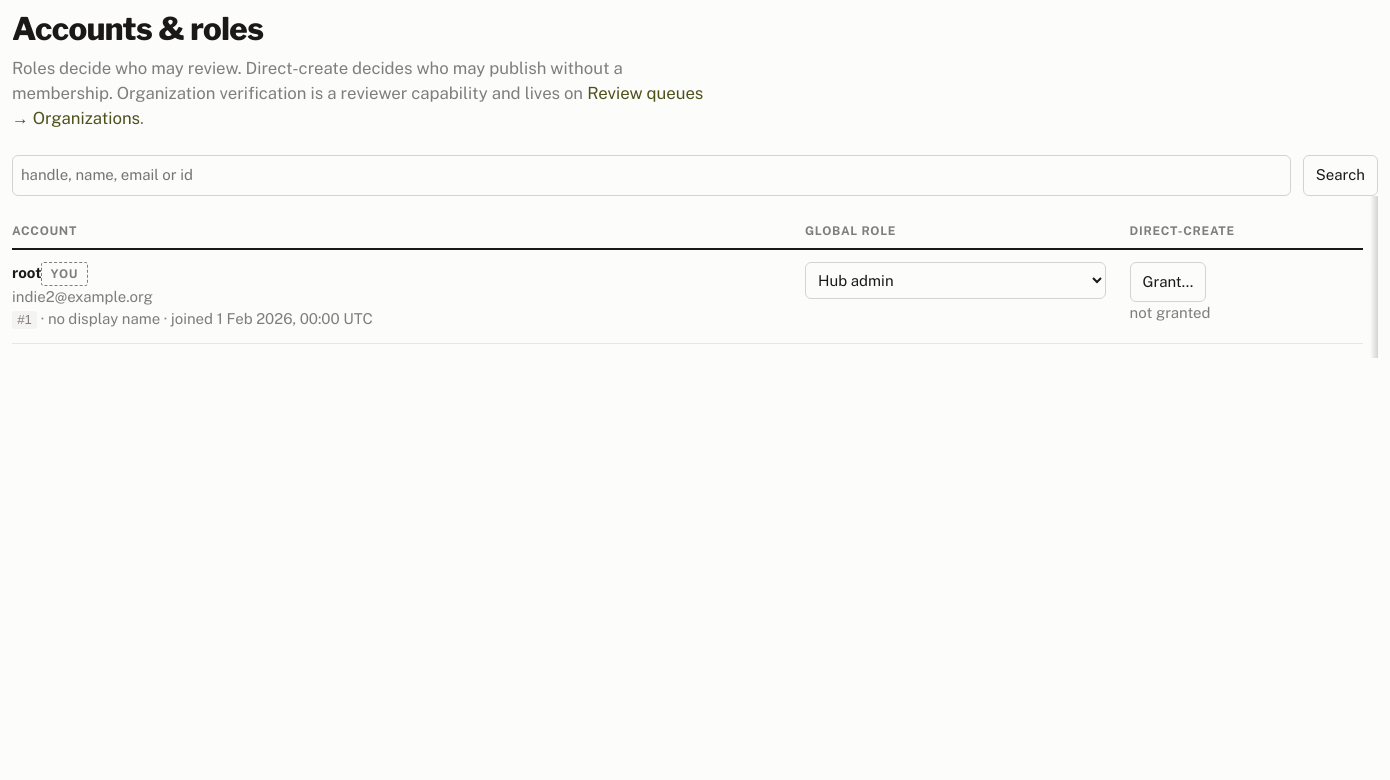
Test: changing a role › warns an administrator demoting themselves that it cannot be undone here
Select "Hub reviewer" in the dropdown named "Global role for account 1": {"x": 955, "y": 280} top-left (805, 262), bottom-right (1106, 299)
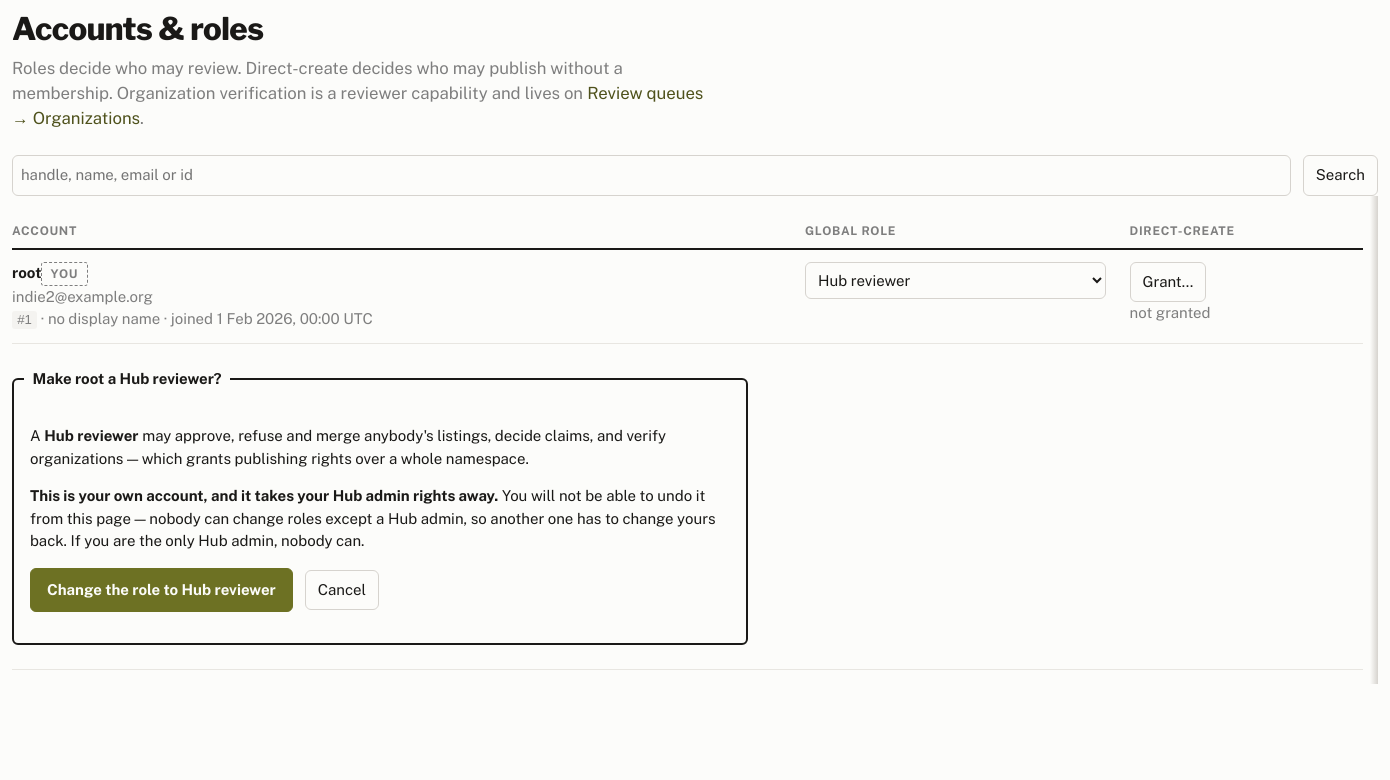
Now the text "This is your own account" is shown, box top-left (30, 487), bottom-right (498, 504)
Now the text "If you are the only Hub admin, nobody can." is shown, box top-left (30, 487), bottom-right (716, 549)
